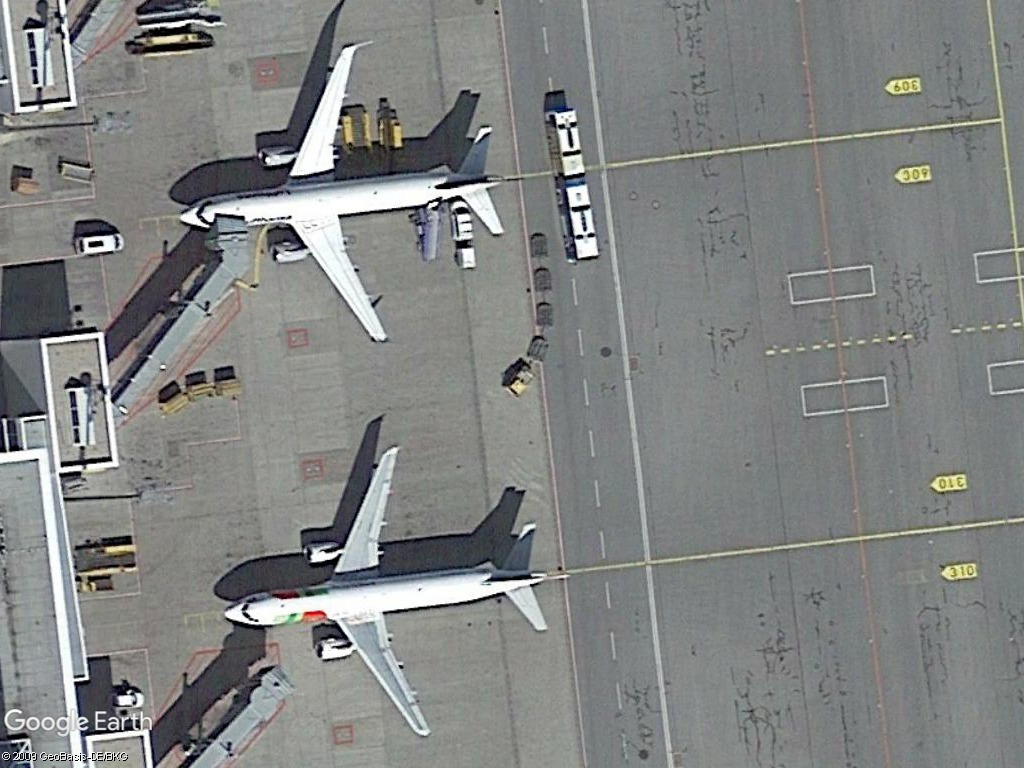airliner: (213, 440, 562, 746), (173, 40, 514, 351)
bus: (558, 173, 600, 265), (543, 102, 587, 181)
van: (69, 231, 131, 262)
